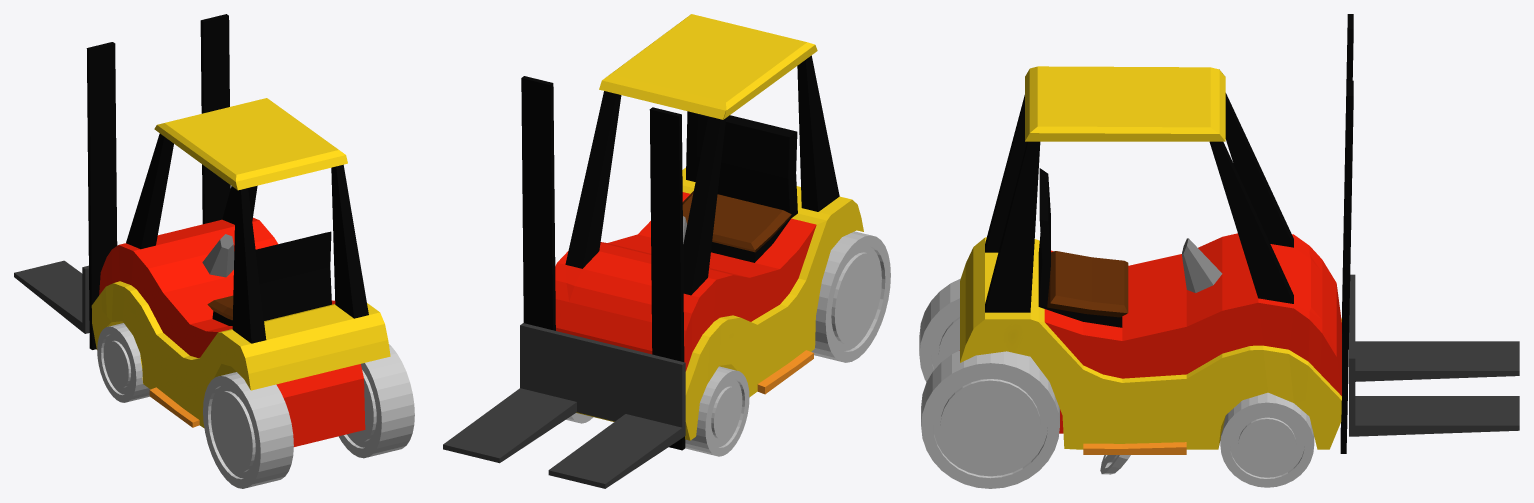
Rendered from Forklift_SteeringWheel.fbx.
3 views of the same model, side by side, from view 1: azimuth 30°, elevation 25°; view 2: azimuth 150°, elevation 25°; view 3: azimuth 270°, elevation 25° (orthographic). The views are drawn at different scales.
Visible parts, largest first — view 1: ForkBody, Cylinder.001, Cylinder, ForkLifter, Cylinder.003; view 2: ForkBody, ForkLifter, Cylinder.001, Cylinder.003; view 3: ForkBody, Cylinder, ForkLifter, Cylinder.002, Cylinder.001.
Boxes of the visible parts, x1,y1,x2,y2 form: ForkBody: (86, 14, 390, 446); Cylinder.001: (203, 372, 293, 488); Cylinder: (338, 344, 414, 458); ForkLifter: (14, 260, 89, 333); Cylinder.003: (97, 323, 150, 402); ForkBody: (521, 14, 863, 450); ForkLifter: (443, 323, 685, 488); Cylinder.001: (811, 231, 890, 362); Cylinder.003: (685, 366, 749, 456); ForkBody: (959, 14, 1353, 454); Cylinder: (921, 350, 1059, 488); ForkLifter: (1349, 274, 1519, 436); Cylinder.002: (1220, 392, 1314, 487); Cylinder.001: (919, 278, 960, 381).
Bounding box in the file's own units: 299 × 640 × 835.
